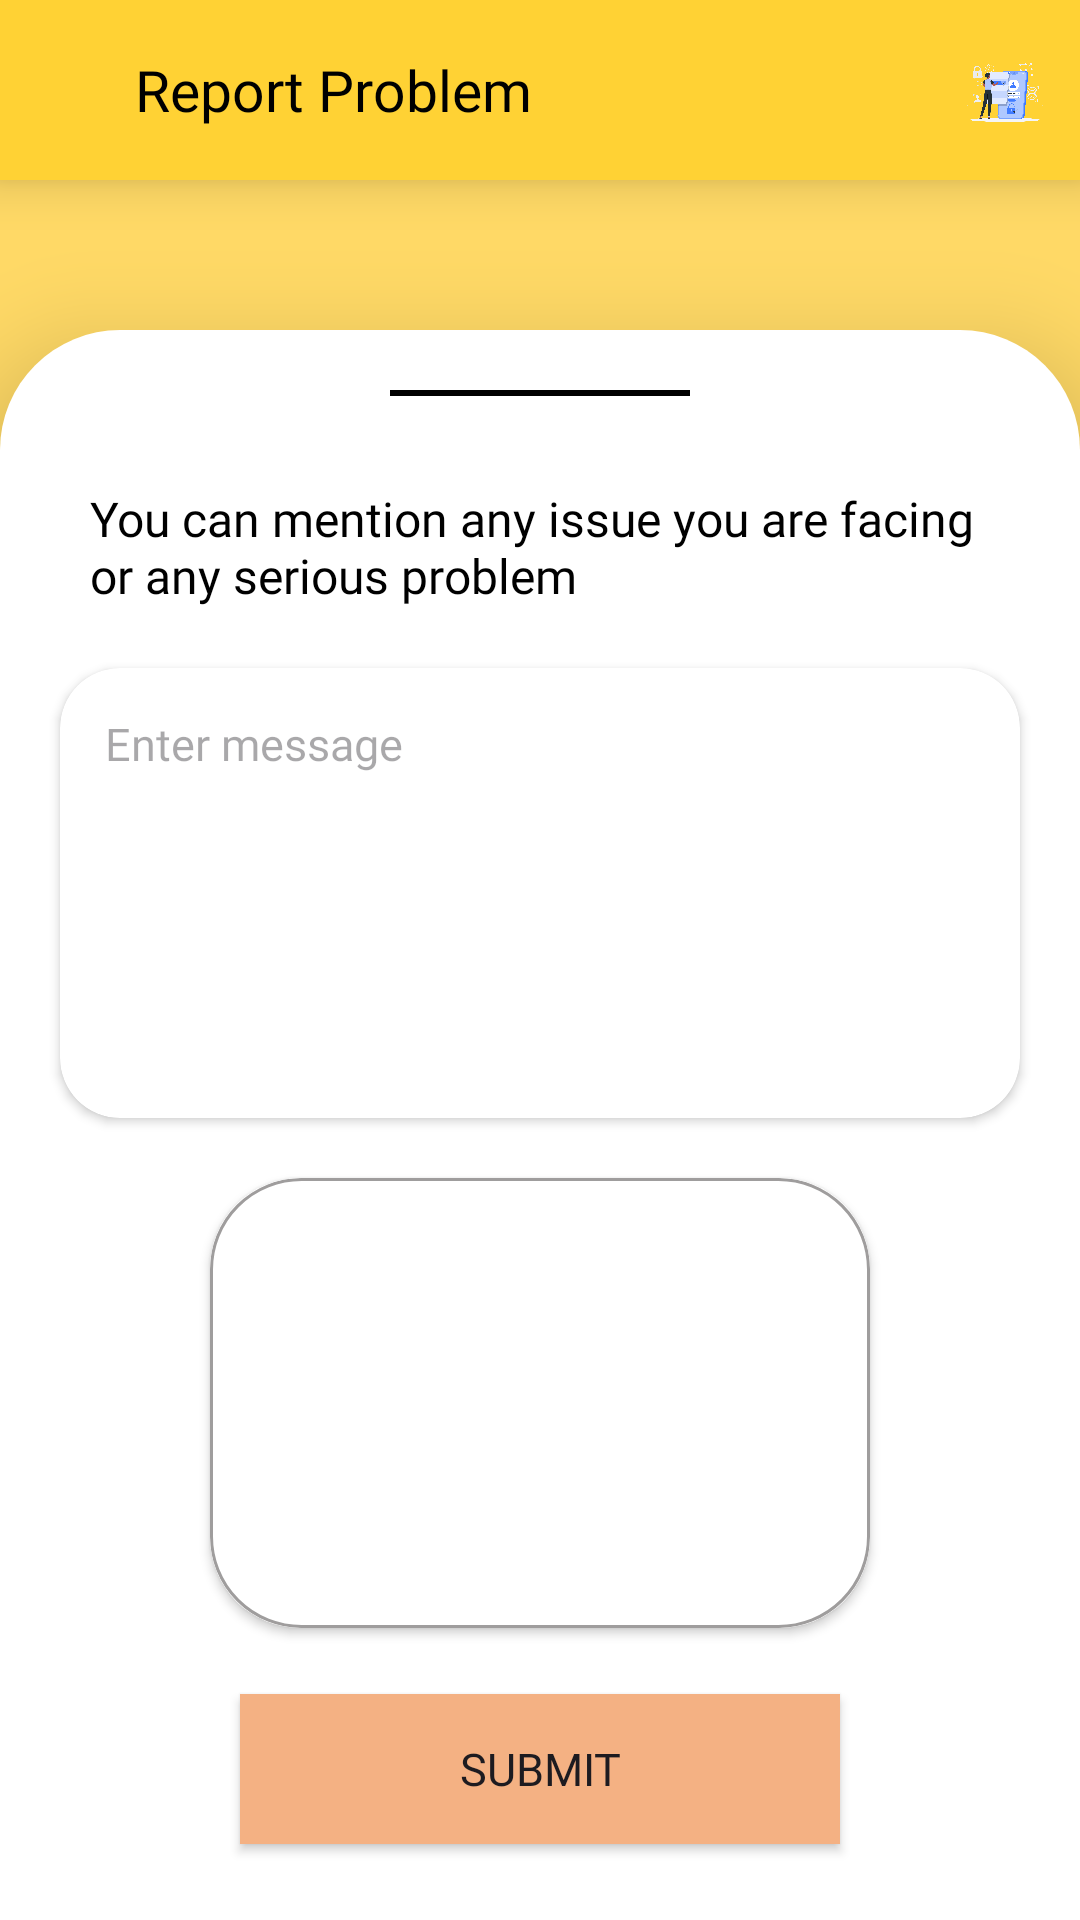

Where to tap for icons on this 1080*1920 app screen, as point (x, y):
infonameimg: point (1005, 92)
